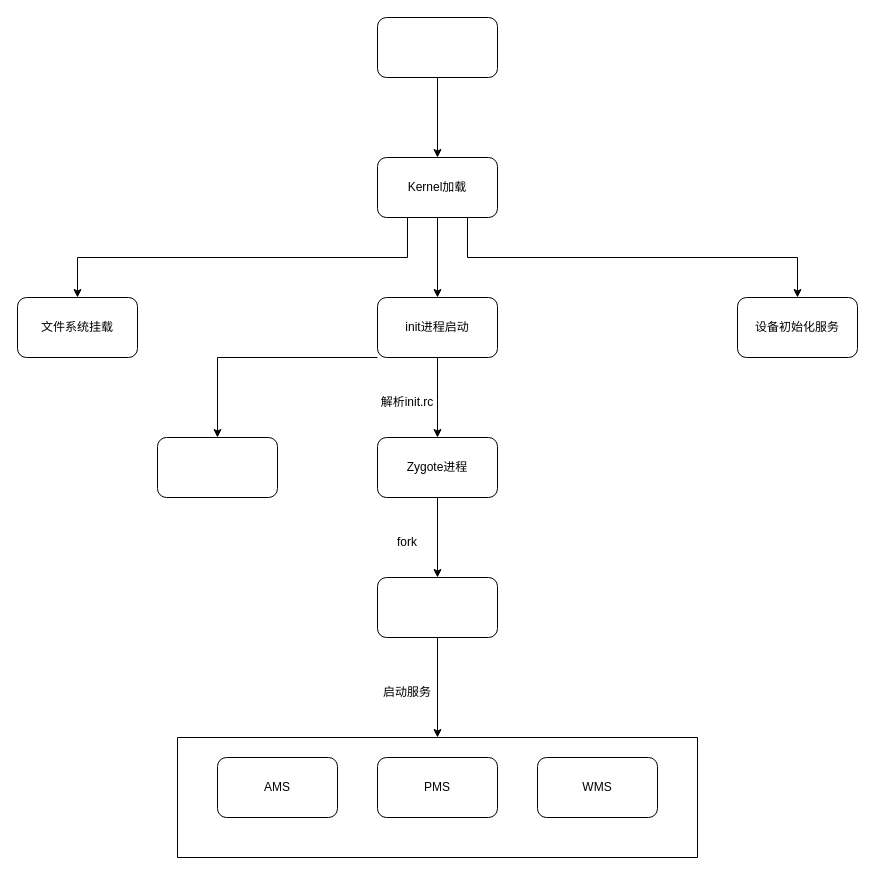
This 875x875 diagram has some shape labels left out. Here are the shapes that lost their labels. From the top down, the box of each, then its label:
(376, 16, 498, 78): BootLoader加载
(156, 436, 278, 498): system_manager
(376, 576, 498, 638): SystemServer
